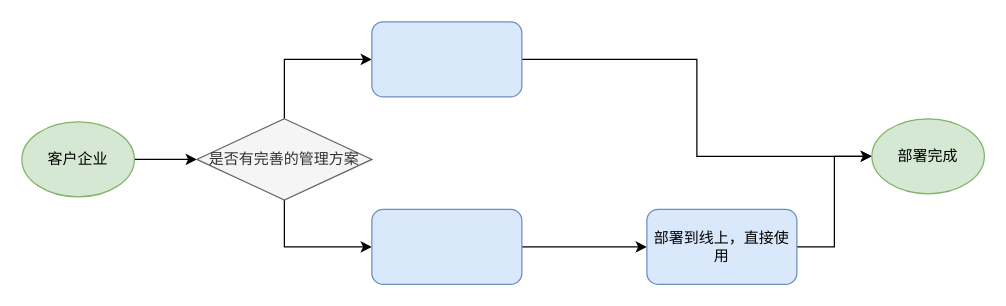
Some shapes in this 1006 by 306 pixel diagram are drawn without their labels. The centre of each missing label's shape, as x and y in pixels:
提供模板方案，根据企业需求微调: point 446,246
迁移到线上，直接使用: point 446,59
